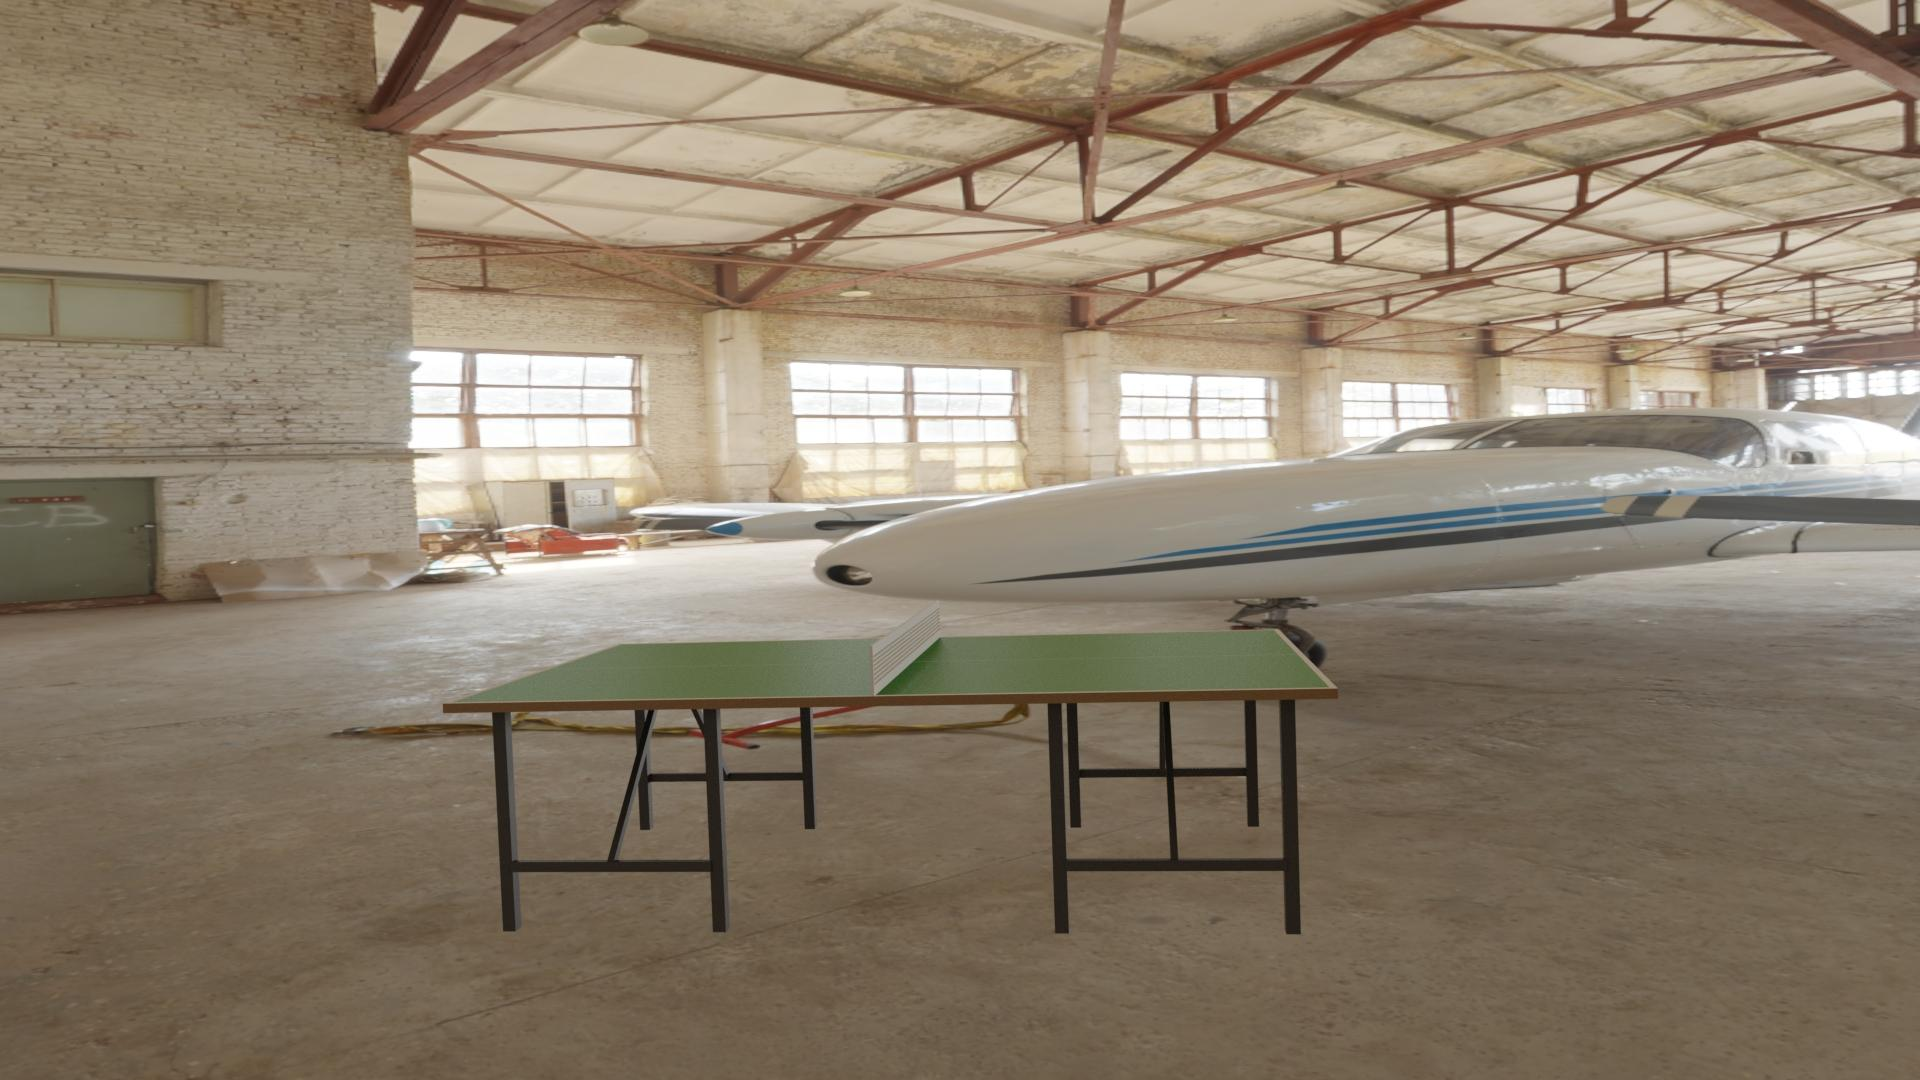table: (452, 630, 1329, 703)
